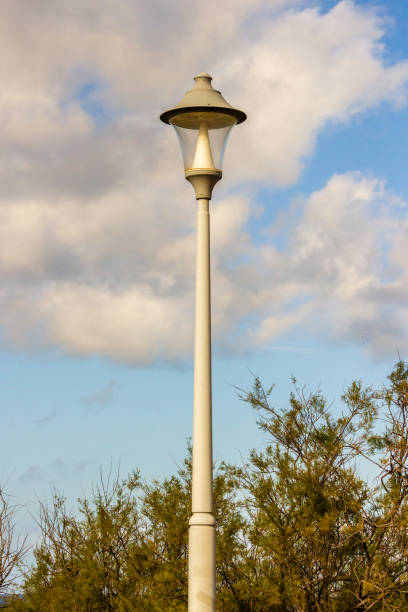light_pole: (186, 207, 225, 610)
